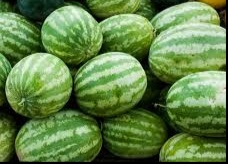watermelon: (72, 51, 148, 117), (14, 111, 103, 161), (5, 50, 70, 118), (149, 24, 225, 79), (41, 5, 103, 60)
